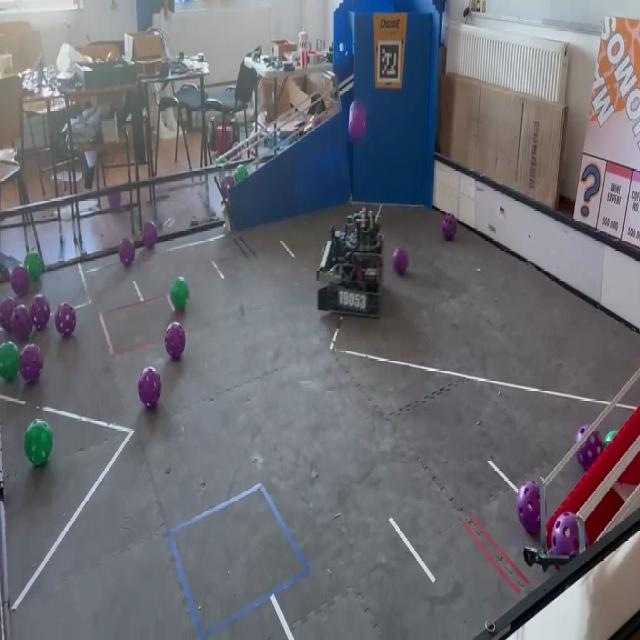artifact_green: (25, 419, 53, 466), (0, 342, 19, 381), (170, 277, 189, 311), (24, 252, 43, 282), (604, 429, 618, 448), (235, 165, 248, 183), (218, 158, 227, 165)
artifact_purple: (576, 425, 603, 471), (517, 482, 540, 535), (551, 513, 579, 555), (139, 367, 161, 408), (20, 344, 43, 383), (165, 322, 185, 360), (349, 99, 366, 143), (12, 305, 32, 342), (55, 303, 76, 337), (31, 295, 50, 330), (11, 265, 30, 296), (0, 297, 16, 332), (119, 238, 135, 266), (393, 248, 408, 276), (442, 214, 457, 241), (143, 222, 158, 248), (221, 176, 235, 200), (108, 193, 121, 208)
